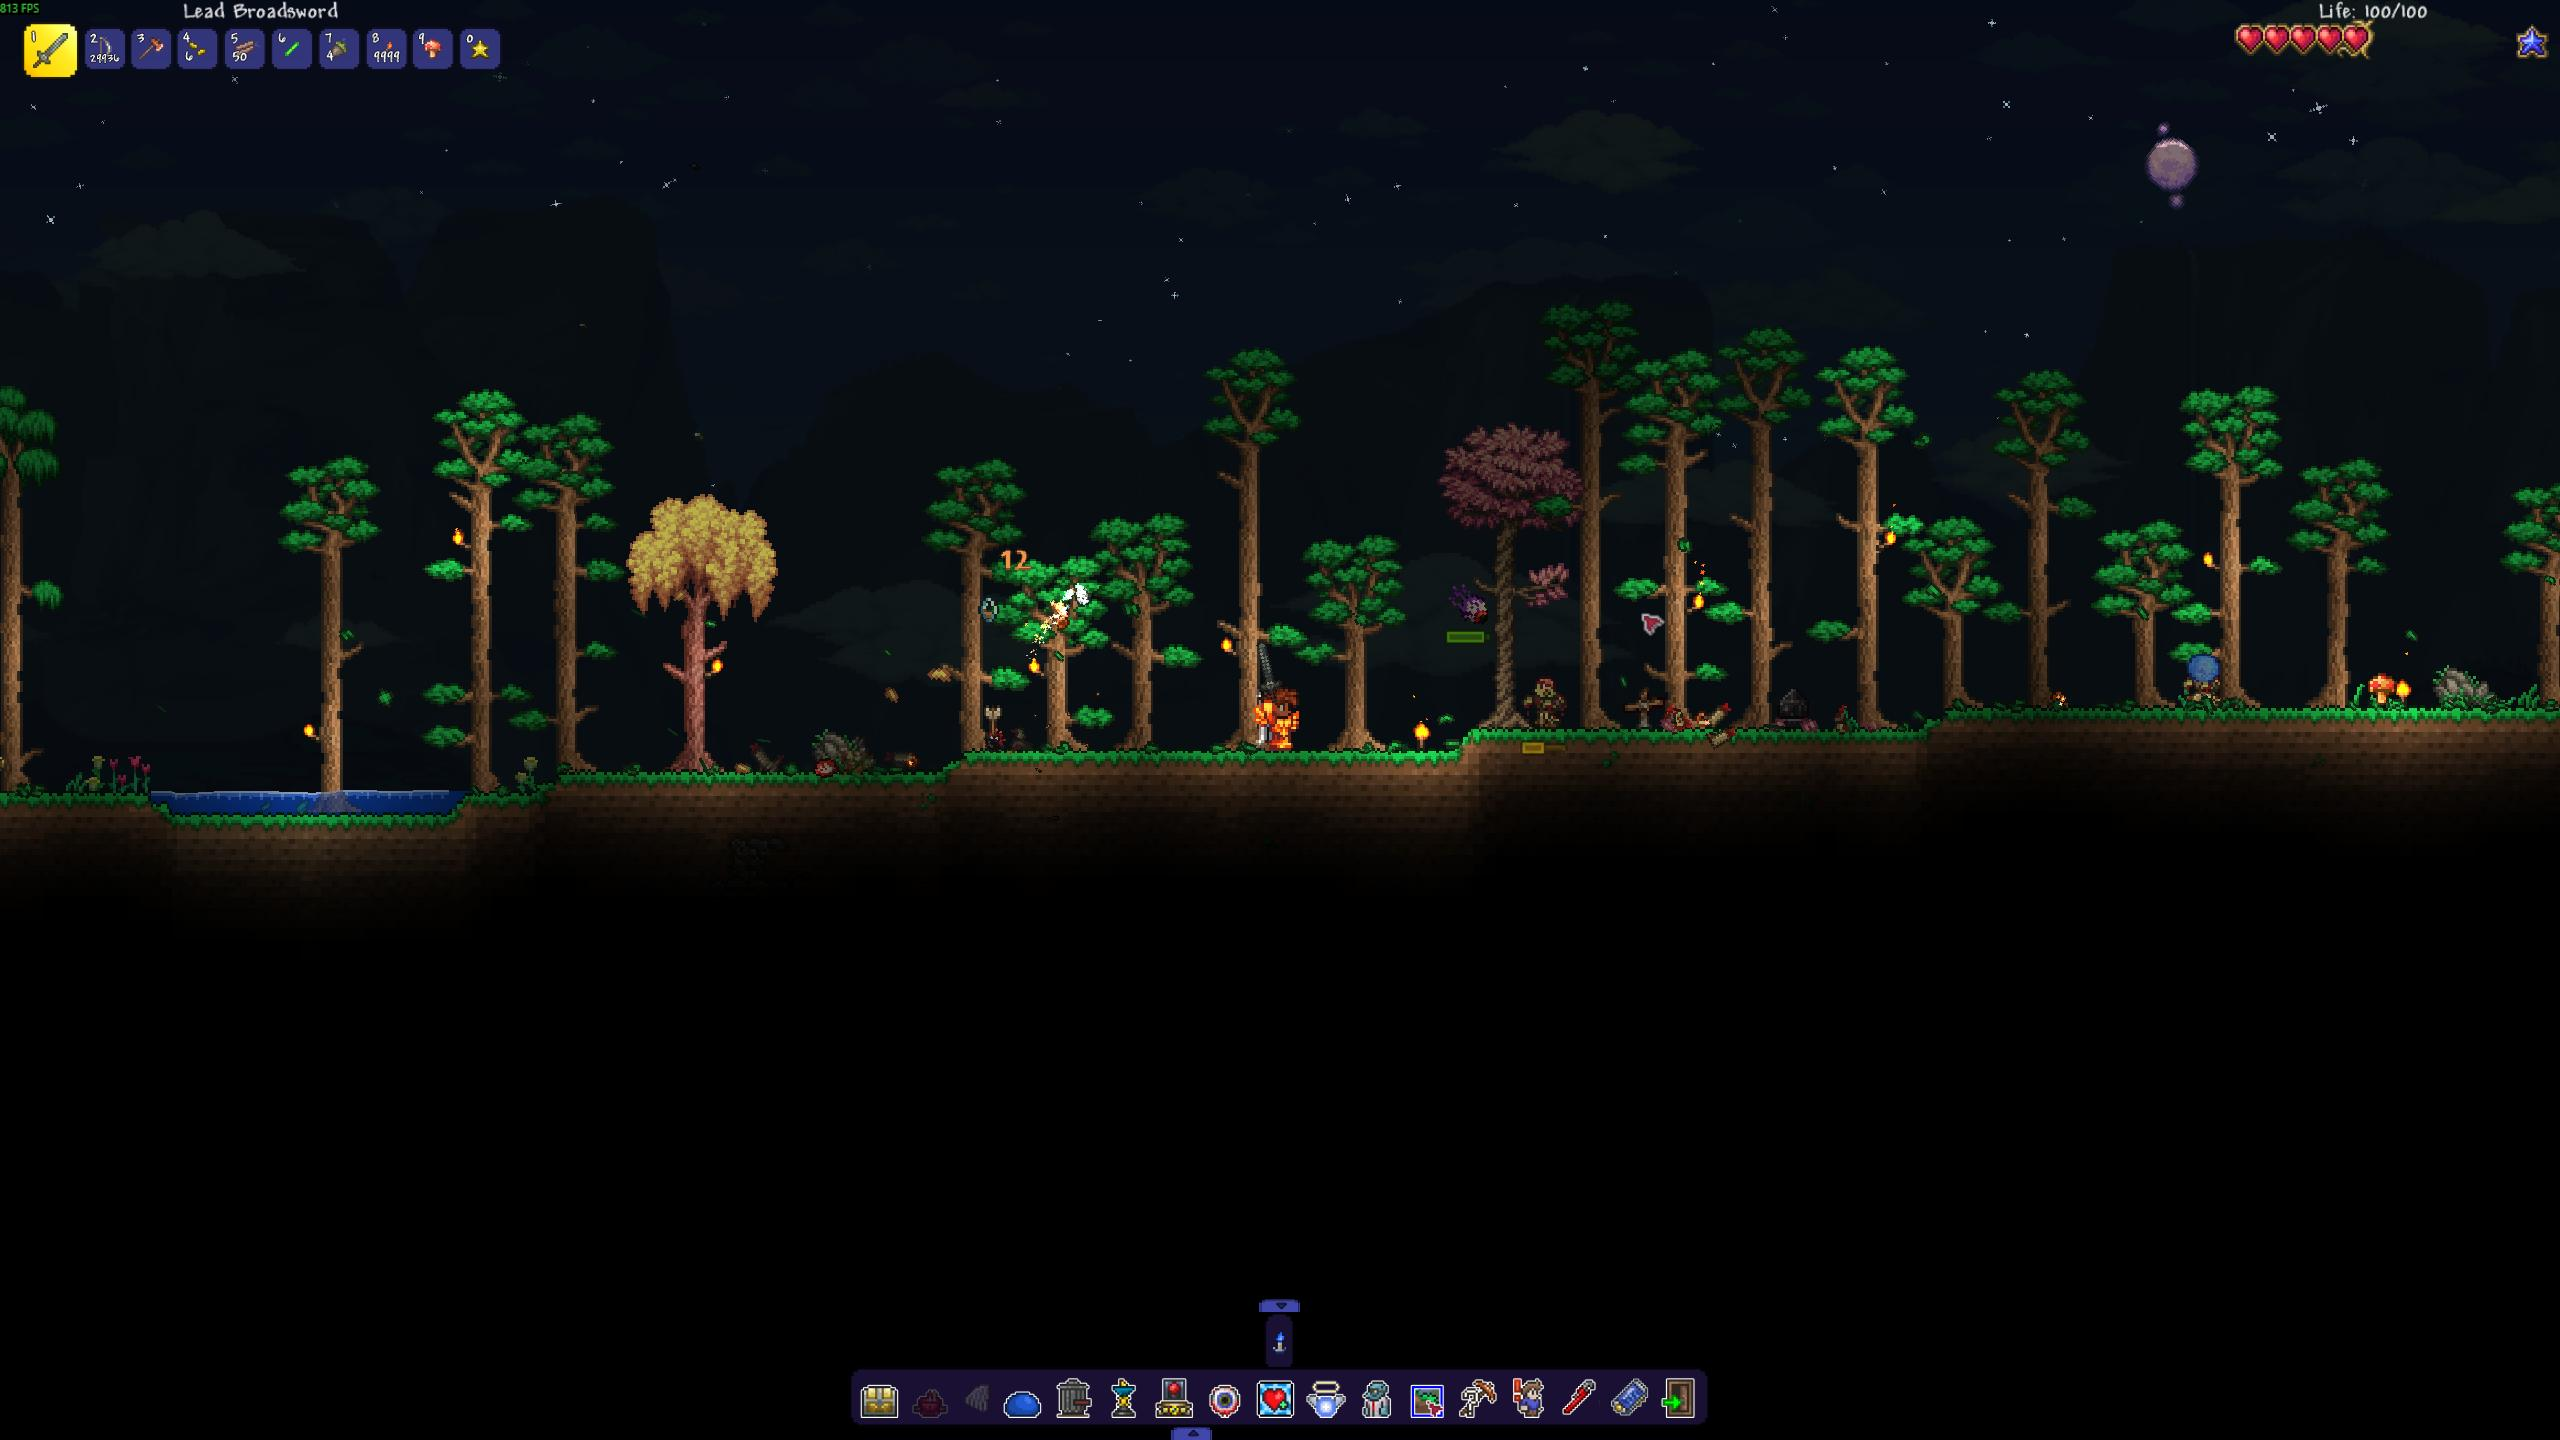Demon Eye: (1442, 575, 1491, 631)
Zombie: (1521, 670, 1568, 730), (2180, 656, 2224, 705)
